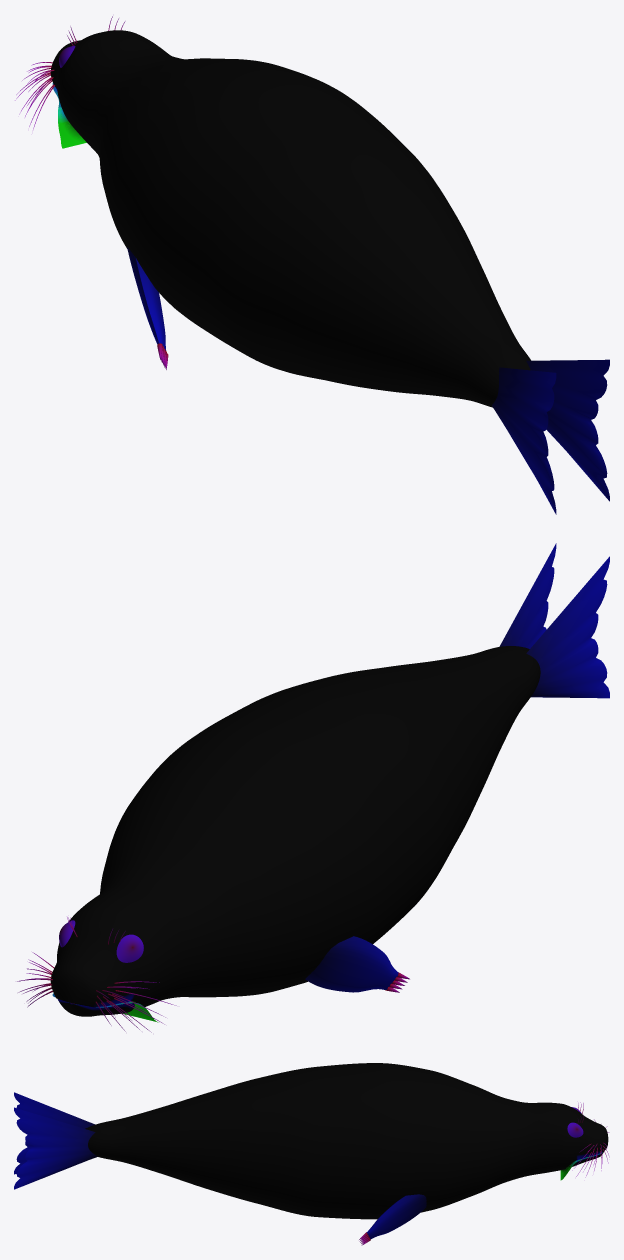
File: harbor_seal.glb
3 renders of one model, top to bottom at view 1: azimuth 30°, elevation 25°; view 2: azimuth 150°, elevation 25°; view 3: azimuth 270°, elevation 25°, orthographic. The views are drawn at different scales.
Parts seen in each view (by area): view 1: harbor_seal; view 2: harbor_seal; view 3: harbor_seal.
Part boxes in pixels (box(x1,y1,x2,y2)): harbor_seal: box(15, 16, 609, 514); harbor_seal: box(17, 543, 609, 1032); harbor_seal: box(14, 1063, 609, 1245).
Size of the model in its own units: 0.4485 by 0.4176 by 1.6.
